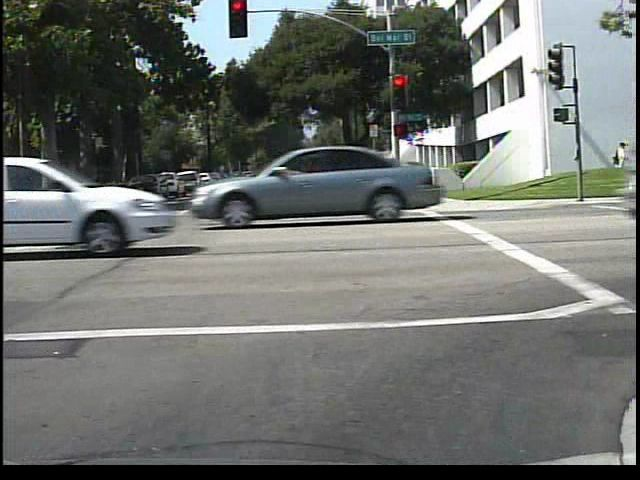person: (607, 137, 632, 200)
